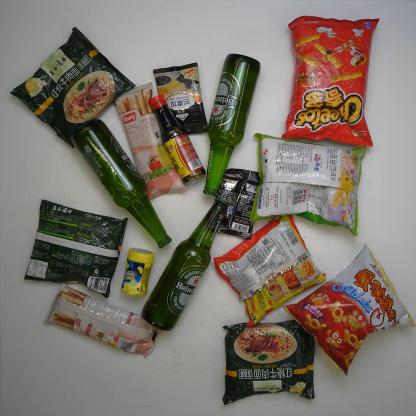Alcohol: (70, 117, 173, 251), (140, 198, 231, 332), (202, 52, 262, 198)
Dessert: (42, 282, 164, 359), (113, 80, 188, 200)
Gum: (120, 247, 155, 298)
Instant Drink: (153, 61, 210, 136), (214, 167, 261, 241)
Instant Noodles: (8, 25, 138, 150), (213, 213, 328, 328), (22, 199, 128, 299), (220, 320, 316, 406)
Puffed Food: (281, 240, 416, 380), (280, 14, 381, 148), (248, 132, 367, 238)
Seasoner: (148, 93, 207, 186)
